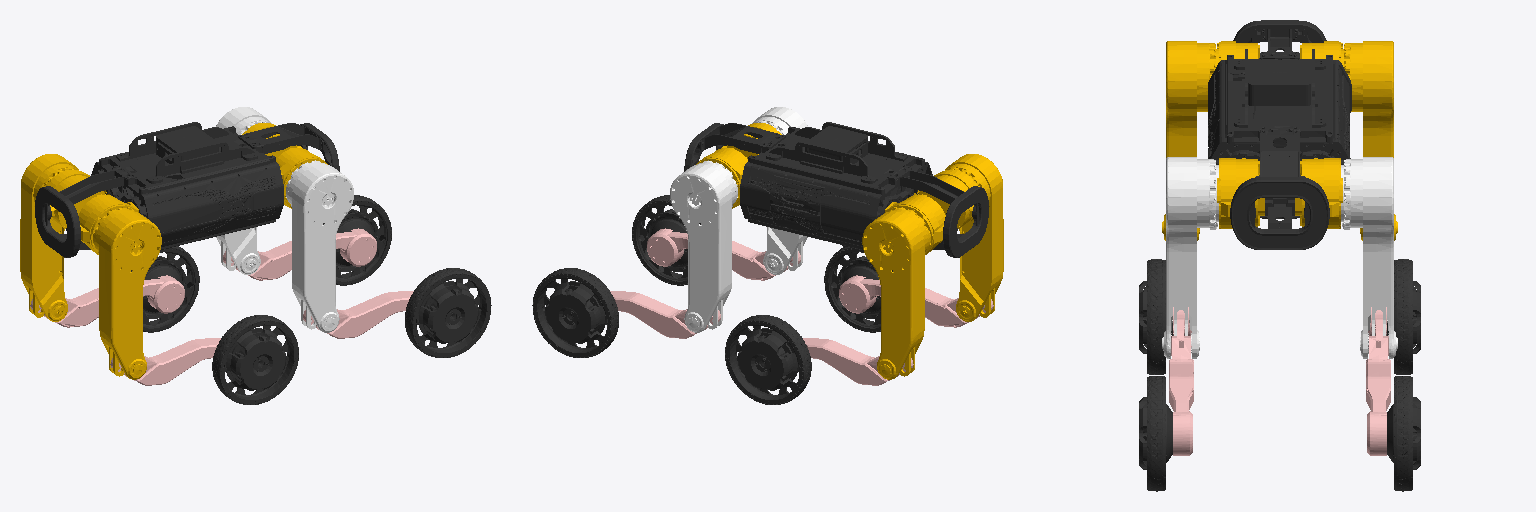
--- Render facts (derived) ---
Views: 3 orthographic renders of the robot side by side, from view 1: azimuth 30°, elevation 25°; view 2: azimuth 150°, elevation 25°; view 3: azimuth 270°, elevation 25°.
Robot: l4w4 — 19 links, 18 joints (16 revolute, 2 fixed); root link base; default pose: all joints at 0 but 4 set to mid-range because 0 is outside their limits (FR_calf_joint = -1.44, FL_calf_joint = -1.44, RR_calf_joint = -1.44, RL_calf_joint = -1.44).
Links seen in each view (by area): view 1: trunk, RR_thigh, FR_thigh, RR_foot, FR_foot, RL_thigh, FL_foot, RL_foot, FL_calf, FL_thigh, RL_calf, FR_calf (+4 smaller); view 2: trunk, RL_thigh, FL_thigh, RL_foot, FL_foot, RR_thigh, FR_foot, RR_foot, FR_calf, FR_thigh, RR_calf, FL_calf (+4 smaller); view 3: trunk, FR_thigh, FL_thigh, RL_thigh, RR_thigh, FR_foot, FL_foot, FR_calf, FL_calf, RR_foot, RL_foot, FR_hip (+3 smaller).
Boxes of the visible links, box(x1,y1,x2,y2) form: trunk: box(35, 122, 339, 257); RR_thigh: box(93, 208, 161, 379); FR_thigh: box(286, 160, 353, 332); RR_foot: box(212, 315, 298, 404); FR_foot: box(405, 268, 491, 357); RL_thigh: box(20, 154, 78, 321); FL_foot: box(323, 195, 391, 285); RL_foot: box(131, 246, 199, 332); FL_calf: box(223, 228, 376, 280); FL_thigh: box(216, 107, 271, 274); RL_calf: box(30, 275, 184, 327); FR_calf: box(303, 291, 413, 338); trunk: box(684, 122, 988, 257); RL_thigh: box(862, 208, 930, 379); FL_thigh: box(670, 160, 737, 332); RL_foot: box(725, 315, 811, 404); FL_foot: box(532, 268, 618, 357); RR_thigh: box(945, 154, 1003, 321); FR_foot: box(632, 195, 700, 285); RR_foot: box(824, 247, 892, 332); FR_calf: box(647, 228, 800, 280); FR_thigh: box(752, 107, 807, 274); RR_calf: box(839, 275, 993, 327); FL_calf: box(610, 291, 720, 338); trunk: box(1208, 20, 1351, 249); FR_thigh: box(1162, 157, 1218, 358); FL_thigh: box(1341, 157, 1397, 358); RL_thigh: box(1341, 41, 1397, 240); RR_thigh: box(1162, 41, 1218, 240); FR_foot: box(1139, 376, 1172, 491); FL_foot: box(1387, 376, 1420, 491); FR_calf: box(1169, 319, 1193, 455); FL_calf: box(1366, 319, 1390, 455); RR_foot: box(1139, 259, 1172, 374); RL_foot: box(1387, 259, 1420, 374); FR_hip: box(1217, 158, 1264, 228).
Size in the robot's own frame: 0.9952 by 0.51 by 0.5766 metres.
Meshes: 5 distinct files referenced, 17 mesh visuals loaded (5 binary STL).

robot.urdf — l4w4:
<?xml version="1.0" encoding="utf-8"?>
<!-- This URDF was automatically created by SolidWorks to URDF Exporter! Originally created by Stephen Brawner ([email redacted])
     Commit Version: 1.6.0-4-g7f85cfe  Build Version: 1.6.7995.38578
     For more information, please see http://wiki.ros.org/sw_urdf_exporter -->
<robot name="l4w4">
  <material name="black">
    <color rgba="0.0 0.0 0.0 1.0"/>
  </material>
  <material name="blue">
    <color rgba="0.0 0.0 0.8 1.0"/>
  </material>
  <material name="green">
    <color rgba="0.0 0.8 0.0 1.0"/>
  </material>
  <material name="grey">
    <color rgba="0.2 0.2 0.2 1.0"/>
  </material>
  <material name="silver">
    <color rgba="0.913725490196 0.913725490196 0.847058823529 1.0"/>
  </material>
  <material name="orange">
    <color rgba="1.0 0.423529411765 0.0392156862745 1.0"/>
  </material>
  <material name="brown">
    <color rgba="0.870588235294 0.811764705882 0.764705882353 1.0"/>
  </material>
  <material name="red">
    <color rgba="0.8 0.0 0.0 1.0"/>
  </material>
  <material name="white">
    <color rgba="1.0 1.0 1.0 1.0"/>
  </material>

  <link name="base">
    <visual>
      <origin rpy="0 0 0" xyz="0 0 0"/>
      <geometry>
        <box size="0.001 0.001 0.001"/>
      </geometry>
    </visual>
  </link>
  <joint name="floating_base" type="fixed">
    <origin rpy="0 0 0" xyz="0 0 0"/>
    <parent link="base"/>
    <child link="trunk"/>
  </joint>

  <link name="trunk">
    <inertial>
      <origin xyz="-0.0107 -0.00135 0.005" rpy="0 0 0" />
      <mass value="18.057" />
      <inertia ixx="0.12015" ixy="-0.00086" ixz="-0.00124" iyy="0.36210" iyz="-0.00004" izz="0.40829" />
    </inertial>
    <visual>
      <origin xyz="0 0 0" rpy="0 0 0" />
      <geometry>
        <mesh filename="package://l4w4_description/meshes/trunk.STL" />
      </geometry>
      <material name="">
        <color rgba="0.25 0.25 0.25 1" />
      </material>
    </visual>
    <collision>
      <origin xyz="0 0 0" rpy="0 0 0" />
      <geometry>
        <box size="0.688 0.18 0.18" />
      </geometry>
    </collision>
  </link>


  <link name="FR_hip">
    <inertial>
      <origin xyz="-0.004726 -0.001176 0.000044" rpy="0 0 0" />
      <mass value="2" />
      <inertia ixx="0.003012" ixy="0.000018" ixz="0.000006" iyy="0.005188" iyz="-0.000004" izz="0.003993" />
    </inertial>
    <visual>
      <origin xyz="0 0 0" rpy="0 0 0" />
      <geometry>
        <mesh filename="package://l4w4_description/meshes/shoulder_R.STL" />
      </geometry>
      <material name="">
        <color rgba="1 0.7765 0.0314 1" />
      </material>
    </visual>
    <collision>
      <origin xyz="0 0 0" rpy="0 0 0" />
      <geometry>
        <cylinder length="0" radius="0" />
      </geometry>
    </collision>
  </link>
  <joint name="FR_hip_joint" type="revolute">
    <origin xyz="0.249 -0.065 0" rpy="0 0 0" />
    <parent link="trunk" />
    <child link="FR_hip" />
    <axis xyz="1 0 0" />
    <limit lower="-0.5236" upper="0.5236" effort="110" velocity="11.5" />
  </joint>

  <link name="FR_thigh">
    <inertial>
      <origin xyz="-0.007013 -0.09103 -0.06380" rpy="0 0 0" />
      <mass value="3.396" />
      <inertia ixx="0.043751" ixy="0.000606" ixz="0.002054" iyy="0.043937" iyz="0.005154" izz="0.006846" />
    </inertial>
    <visual>
      <origin xyz="0 0 0" rpy="0 0 0" />
      <geometry>
        <mesh filename="package://l4w4_description/meshes/thigh_R.STL" scale = "1 1 1"/>
      </geometry>
      <material name="">
        <color rgba="1 1 1 1" />
      </material>
    </visual>
    <collision>
      <origin xyz="0 -0.1145 -0.100" rpy="0 0 0" />
      <geometry>
        <box size="0.122 0.044 0.32" />
      </geometry>
    </collision>
  </link>
  <joint name="FR_thigh_joint" type="revolute">
    <origin xyz="0 0 0" rpy="0 0 0" />
    <parent link="FR_hip" />
    <child link="FR_thigh" />
    <axis xyz="0 1 0" />
    <limit lower="-1.4" upper="3.14" effort="110" velocity="12.56" />
  </joint>

  <link name="FR_calf">
    <inertial>
      <origin xyz="-0.001448 0.001637 -0.130288" rpy="0 0 0" />
      <mass value="0.829" />
      <inertia ixx="0.012593" ixy="0.000001" ixz="-0.000510" iyy="0.012842" iyz="-0.000137" izz="0.000514" />
    </inertial>
    <visual>
      <origin xyz="0 0 0" rpy="0 0 0" />
      <geometry>
        <mesh filename="package://l4w4_description/meshes/shank_R.STL" scale = "1 1 1"/>
      </geometry>
      <material name="">
        <color rgba="1 0.8 0.8 1" />
      </material>
    </visual>
    <collision>
      <origin xyz="0 0 -0.2" rpy="0 0 0" />
      <geometry>
        <box size="0.06 0.03 0.1"/>
      </geometry>
    </collision>
  </link>
  <joint name="FR_calf_joint" type="revolute">
    <origin xyz="0 -0.1145 -0.3" rpy="0 0 0" />
    <parent link="FR_thigh" />
    <child link="FR_calf" />
    <axis xyz="0 1 0" />
    <limit lower="-2.7" upper="-0.17" effort="135" velocity="12.56" />
  </joint>

  <link name="FR_foot">
    <inertial>
      <origin xyz="0 -0.0559 0" rpy="0 0 0" />
      <mass value="2.6" />
      <inertia ixx="0.003934" ixy="0.0" ixz="0.000004" iyy="0.007113" iyz="-0.000004" izz="0.00395" />
    </inertial>
    <visual>
      <origin xyz="0 0 0" rpy="0 0 0" />
      <geometry>
        <mesh filename="package://l4w4_description/meshes/wheel_R.STL" scale = "1 1 1"/>
      </geometry>
      <material name="">
        <color rgba="0.25 0.25 0.25 1" />
      </material>
    </visual>
    <collision>
      <origin xyz="0 -0.0559 0" rpy="1.570796327 0 0" />
      <geometry>
        <cylinder length="0.040" radius="0.105"/>
      </geometry>
    </collision>
  </link>
  <joint name="FR_foot_joint" type="revolute">
    <origin xyz="0 0 -0.3" rpy="0 0 0" />
    <parent link="FR_calf" />
    <child link="FR_foot" />
    <axis xyz="0 1 0" />
    <limit lower="-1000000" upper="1000000" effort="32" velocity="12.0" />
  </joint>

  <transmission name="FR_hip_tran">
    <type>transmission_interface/SimpleTransmission</type>
    <joint name="FR_hip_joint">
      <hardwareInterface>hardware_interface/EffortJointInterface</hardwareInterface>
    </joint>
    <actuator name="FR_hip_motor">
      <hardwareInterface>hardware_interface/EffortJointInterface</hardwareInterface>
      <mechanicalReduction>1</mechanicalReduction>
    </actuator>
  </transmission>
  <transmission name="FR_thigh_tran">
    <type>transmission_interface/SimpleTransmission</type>
    <joint name="FR_thigh_joint">
      <hardwareInterface>hardware_interface/EffortJointInterface</hardwareInterface>
    </joint>
    <actuator name="FR_thigh_motor">
      <hardwareInterface>hardware_interface/EffortJointInterface</hardwareInterface>
      <mechanicalReduction>1</mechanicalReduction>
    </actuator>
  </transmission>
  <transmission name="FR_calf_tran">
    <type>transmission_interface/SimpleTransmission</type>
    <joint name="FR_calf_joint">
      <hardwareInterface>hardware_interface/EffortJointInterface</hardwareInterface>
    </joint>
    <actuator name="FR_calf_motor">
      <hardwareInterface>hardware_interface/EffortJointInterface</hardwareInterface>
      <mechanicalReduction>1</mechanicalReduction>
    </actuator>
  </transmission>
  <transmission name="FR_foot_tran">
    <type>transmission_interface/SimpleTransmission</type>
    <joint name="FR_foot_joint">
      <hardwareInterface>hardware_interface/EffortJointInterface</hardwareInterface>
    </joint>
    <actuator name="FR_foot_motor">
      <hardwareInterface>hardware_interface/EffortJointInterface</hardwareInterface>
      <mechanicalReduction>1</mechanicalReduction>
    </actuator>
  </transmission>

  <link name="FL_hip">
    <inertial>
      <origin xyz="-0.004726 0.001176 0.000044" rpy="0 0 0" />
      <mass value="2" />
      <inertia ixx="0.003012" ixy="-0.000018" ixz="0.000006" iyy="0.005188" iyz="0.000004" izz="0.003993" />
    </inertial>
    <visual>
      <origin xyz="0 0 0" rpy="0 0 0" />
      <geometry>
        <mesh filename="package://l4w4_description/meshes/shoulder_R.STL" scale = "1 -1 1"/>
      </geometry>
      <material name="">
        <color rgba="1 0.7765 0.0314 1" />
      </material>
    </visual>
    <collision>
      <origin xyz="0 0 0" rpy="0 0 0" />
      <geometry>
        <cylinder length="0" radius="0" />
      </geometry>
    </collision>
  </link>
  <joint name="FL_hip_joint" type="revolute">
    <origin xyz="0.249 0.065 0" rpy="0 0 0" />
    <parent link="trunk" />
    <child link="FL_hip" />
    <axis xyz="1 0 0" />
    <limit lower="-0.5236" upper="0.5236" effort="110" velocity="11.5" />
  </joint>

  <link name="FL_thigh">
    <inertial>
      <origin xyz="-0.007013 0.09103 -0.06380" rpy="0 0 0" />
      <mass value="3.396" />
      <inertia ixx="0.043751" ixy="-0.000606" ixz="0.002054" iyy="0.043937" iyz="-0.005154" izz="0.006846" />
    </inertial>
    <visual>
      <origin xyz="0 0 0" rpy="0 0 0" />
      <geometry>
        <mesh filename="package://l4w4_description/meshes/thigh_R.STL" scale = "1 -1 1"/>
      </geometry>
      <material name="">
        <color rgba="1 1 1 1" />
      </material>
    </visual>
    <collision>
      <origin xyz="0 0.1145 -0.100" rpy="0 0 0" />
      <geometry>
        <box size="0.122 0.044 0.32" />
      </geometry>
    </collision>
  </link>
  <joint name="FL_thigh_joint" type="revolute">
    <origin xyz="0 0 0" rpy="0 0 0" />
    <parent link="FL_hip" />
    <child link="FL_thigh" />
    <axis xyz="0 1 0" />
    <limit lower="-1.4" upper="3.14" effort="110" velocity="12.56" />
  </joint>

  <link name="FL_calf">
    <inertial>
      <origin xyz="-0.001448 -0.001637 -0.130288" rpy="0 0 0" />
      <mass value="0.829" />
      <inertia ixx="0.012593" ixy="-0.000001" ixz="-0.000510" iyy="0.012842" iyz="0.000137" izz="0.000514" />
    </inertial>
    <visual>
      <origin xyz="0 0 0" rpy="0 0 0" />
      <geometry>
        <mesh filename="package://l4w4_description/meshes/shank_R.STL" scale = "1 -1 1"/>
      </geometry>
      <material name="">
        <color rgba="1 0.8 0.8 1" />
      </material>
    </visual>
    <collision>
      <origin xyz="0 0 -0.2" rpy="0 0 0" />
      <geometry>
        <box size="0.06 0.03 0.1"/>
      </geometry>
    </collision>
  </link>
  <joint name="FL_calf_joint" type="revolute">
    <origin xyz="0 0.1145 -0.3" rpy="0 0 0" />
    <parent link="FL_thigh" />
    <child link="FL_calf" />
    <axis xyz="0 1 0" />
    <limit lower="-2.7" upper="-0.17" effort="135" velocity="12.56" />
  </joint>

  <link name="FL_foot">
    <inertial>
      <origin xyz="0 0.0559 0" rpy="0 0 0" />
      <mass value="2.6" />
      <inertia ixx="0.003934" ixy="0.0" ixz="0.000004" iyy="0.007113" iyz="0.000004" izz="0.00395" />
    </inertial>
    <visual>
      <origin xyz="0 0 0" rpy="0 0 0" />
      <geometry>
        <mesh filename="package://l4w4_description/meshes/wheel_R.STL" scale = "1 -1 1"/>
      </geometry>
      <material name="">
        <color rgba="0.25 0.25 0.25 1" />
      </material>
    </visual>
    <collision>
      <origin xyz="0 0.0559 0" rpy="1.570796327 0 0" />
      <geometry>
        <cylinder length="0.040" radius="0.105"/>
      </geometry>
    </collision>
  </link>
  <joint name="FL_foot_joint" type="revolute">
    <origin xyz="0 0 -0.3" rpy="0 0 0" />
    <parent link="FL_calf" />
    <child link="FL_foot" />
    <axis xyz="0 1 0" />
    <limit lower="-1000000" upper="1000000" effort="32" velocity="12.0" />
  </joint>

  <transmission name="FL_hip_tran">
    <type>transmission_interface/SimpleTransmission</type>
    <joint name="FL_hip_joint">
      <hardwareInterface>hardware_interface/EffortJointInterface</hardwareInterface>
    </joint>
    <actuator name="FL_hip_motor">
      <hardwareInterface>hardware_interface/EffortJointInterface</hardwareInterface>
      <mechanicalReduction>1</mechanicalReduction>
    </actuator>
  </transmission>
  <transmission name="FL_thigh_tran">
    <type>transmission_interface/SimpleTransmission</type>
    <joint name="FL_thigh_joint">
      <hardwareInterface>hardware_interface/EffortJointInterface</hardwareInterface>
    </joint>
    <actuator name="FL_thigh_motor">
      <hardwareInterface>hardware_interface/EffortJointInterface</hardwareInterface>
      <mechanicalReduction>1</mechanicalReduction>
    </actuator>
  </transmission>
  <transmission name="FL_calf_tran">
    <type>transmission_interface/SimpleTransmission</type>
    <joint name="FL_calf_joint">
      <hardwareInterface>hardware_interface/EffortJointInterface</hardwareInterface>
    </joint>
    <actuator name="FL_calf_motor">
      <hardwareInterface>hardware_interface/EffortJointInterface</hardwareInterface>
      <mechanicalReduction>1</mechanicalReduction>
    </actuator>
  </transmission>
  <transmission name="FL_foot_tran">
    <type>transmission_interface/SimpleTransmission</type>
    <joint name="FL_foot_joint">
      <hardwareInterface>hardware_interface/EffortJointInterface</hardwareInterface>
    </joint>
    <actuator name="FL_foot_motor">
      <hardwareInterface>hardware_interface/EffortJointInterface</hardwareInterface>
      <mechanicalReduction>1</mechanicalReduction>
    </actuator>
  </transmission>

  <link name="RR_hip">
    <inertial>
      <origin xyz="0.004726 -0.001176 0.000044" rpy="0 0 0" />
      <mass value="2" />
      <inertia ixx="0.003012" ixy="-0.000018" ixz="-0.000006" iyy="0.005188" iyz="-0.000004" izz="0.003993" />
    </inertial>
    <visual>
      <origin xyz="0 0 0" rpy="0 0 0" />
      <geometry>
        <mesh filename="package://l4w4_description/meshes/shoulder_R.STL" scale="-1 1 1"/>
      </geometry>
      <material name="">
        <color rgba="1 0.7765 0.0314 1" />
      </material>
    </visual>
    <collision>
      <origin xyz="0 0 0" rpy="0 0 0" />
      <geometry>
        <cylinder length="0" radius="0" />
      </geometry>
    </collision>
  </link>
  <joint name="RR_hip_joint" type="revolute">
    <origin xyz="-0.249 -0.065 0" rpy="0 0 0" />
    <parent link="trunk" />
    <child link="RR_hip" />
    <axis xyz="1 0 0" />
    <limit lower="-0.5236" upper="0.5236" effort="110" velocity="11.5" />
  </joint>

  <link name="RR_thigh">
    <inertial>
      <origin xyz="-0.007013 -0.09103 -0.06380" rpy="0 0 0" />
      <mass value="3.396" />
      <inertia ixx="0.043751" ixy="0.000606" ixz="0.002054" iyy="0.043937" iyz="0.005154" izz="0.006846" />
    </inertial>
    <visual>
      <origin xyz="0 0 0" rpy="0 0 0" />
      <geometry>
        <mesh filename="package://l4w4_description/meshes/thigh_R.STL" scale = "1 1 1"/>
      </geometry>
      <material name="">
        <color rgba="1 0.7765 0.0314 1" />
      </material>
    </visual>
    <collision>
      <origin xyz="0 -0.1145 -0.100" rpy="0 0 0" />
      <geometry>
        <box size="0.122 0.044 0.32" />
      </geometry>
    </collision>
  </link>
  <joint name="RR_thigh_joint" type="revolute">
    <origin xyz="0 0 0" rpy="0 0 0" />
    <parent link="RR_hip" />
    <child link="RR_thigh" />
    <axis xyz="0 1 0" />
    <limit lower="-1.4" upper="3.14" effort="110" velocity="12.56" />
  </joint>

  <link name="RR_calf">
    <inertial>
      <origin xyz="-0.001448 0.001637 -0.130288" rpy="0 0 0" />
      <mass value="0.829" />
      <inertia ixx="0.012593" ixy="0.000001" ixz="-0.000510" iyy="0.012842" iyz="-0.000137" izz="0.000514" />
    </inertial>
    <visual>
      <origin xyz="0 0 0" rpy="0 0 0" />
      <geometry>
        <mesh filename="package://l4w4_description/meshes/shank_R.STL" scale = "1 1 1"/>
      </geometry>
      <material name="">
        <color rgba="1 0.8 0.8 1" />
      </material>
    </visual>
    <collision>
      <origin xyz="0 0 -0.2" rpy="0 0 0" />
      <geometry>
        <box size="0.06 0.03 0.1"/>
      </geometry>
    </collision>
  </link>
  <joint name="RR_calf_joint" type="revolute">
    <origin xyz="0 -0.1145 -0.3" rpy="0 0 0" />
    <parent link="RR_thigh" />
    <child link="RR_calf" />
    <axis xyz="0 1 0" />
    <limit lower="-2.7" upper="-0.17" effort="135" velocity="12.56" />
  </joint>

  <link name="RR_foot">
    <inertial>
      <origin xyz="0 -0.0559 0" rpy="0 0 0" />
      <mass value="2.6" />
      <inertia ixx="0.003934" ixy="0.0" ixz="0.000004" iyy="0.007113" iyz="-0.000004" izz="0.00395" />
    </inertial>
    <visual>
      <origin xyz="0 0 0" rpy="0 0 0" />
      <geometry>
        <mesh filename="package://l4w4_description/meshes/wheel_R.STL" scale = "1 1 1"/>
      </geometry>
      <material name="">
        <color rgba="0.25 0.25 0.25 1" />
      </material>
    </visual>
    <collision>
      <origin xyz="0 -0.0559 0" rpy="1.570796327 0 0" />
      <geometry>
        <cylinder length="0.040" radius="0.105"/>
      </geometry>
    </collision>
  </link>
  <joint name="RR_foot_joint" type="revolute">
    <origin xyz="0 0 -0.3" rpy="0 0 0" />
    <parent link="RR_calf" />
    <child link="RR_foot" />
    <axis xyz="0 1 0" />
    <limit lower="-1000000" upper="1000000" effort="32" velocity="12.0" />
  </joint>

  <link name="RL_hip">
    <inertial>
      <origin xyz="0.004726 0.001176 0.000044" rpy="0 0 0" />
      <mass value="2" />
      <inertia ixx="0.003012" ixy="0.000018" ixz="-0.000006" iyy="0.005188" iyz="0.000004" izz="0.003993" />
    </inertial>
    <visual>
      <origin xyz="0 0 0" rpy="0 0 0" />
      <geometry>
        <mesh filename="package://l4w4_description/meshes/shoulder_R.STL" scale = "-1 -1 1"/>
      </geometry>
      <material name="">
        <color rgba="1 0.7765 0.0314 1" />
      </material>
    </visual>
    <collision>
      <origin xyz="0 0 0" rpy="0 0 0" />
      <geometry>
        <cylinder length="0" radius="0" />
      </geometry>
    </collision>
  </link>
  <joint name="RL_hip_joint" type="revolute">
    <origin xyz="-0.249 0.065 0" rpy="0 0 0" />
    <parent link="trunk" />
    <child link="RL_hip" />
    <axis xyz="1 0 0" />
    <limit lower="-0.5236" upper="0.5236" effort="110" velocity="11.5" />
  </joint>

  <transmission name="RL_hip_tran">
    <type>transmission_interface/SimpleTransmission</type>
    <joint name="RL_hip_joint">
      <hardwareInterface>hardware_interface/EffortJointInterface</hardwareInterface>
    </joint>
    <actuator name="RL_hip_motor">
      <hardwareInterface>hardware_interface/EffortJointInterface</hardwareInterface>
      <mechanicalReduction>1</mechanicalReduction>
    </actuator>
  </transmission>
  <transmission name="RL_thigh_tran">
    <type>transmission_interface/SimpleTransmission</type>
    <joint name="RL_thigh_joint">
      <hardwareInterface>hardware_interface/EffortJointInterface</hardwareInterface>
    </joint>
    <actuator name="RL_thigh_motor">
      <hardwareInterface>hardware_interface/EffortJointInterface</hardwareInterface>
      <mechanicalReduction>1</mechanicalReduction>
    </actuator>
  </transmission>
  <transmission name="RL_calf_tran">
    <type>transmission_interface/SimpleTransmission</type>
    <joint name="RL_calf_joint">
      <hardwareInterface>hardware_interface/EffortJointInterface</hardwareInterface>
    </joint>
    <actuator name="RL_calf_motor">
      <hardwareInterface>hardware_interface/EffortJointInterface</hardwareInterface>
      <mechanicalReduction>1</mechanicalReduction>
    </actuator>
  </transmission>
  <transmission name="RL_foot_tran">
    <type>transmission_interface/SimpleTransmission</type>
    <joint name="RL_foot_joint">
      <hardwareInterface>hardware_interface/EffortJointInterface</hardwareInterface>
    </joint>
    <actuator name="RL_foot_motor">
      <hardwareInterface>hardware_interface/EffortJointInterface</hardwareInterface>
      <mechanicalReduction>1</mechanicalReduction>
    </actuator>
  </transmission>

  <link name="RL_thigh">
    <inertial>
      <origin xyz="-0.007013 0.09103 -0.06380" rpy="0 0 0" />
      <mass value="3.396" />
      <inertia ixx="0.043751" ixy="-0.000606" ixz="0.002054" iyy="0.043937" iyz="-0.005154" izz="0.006846" />
    </inertial>
    <visual>
      <origin xyz="0 0 0" rpy="0 0 0" />
      <geometry>
        <mesh filename="package://l4w4_description/meshes/thigh_R.STL" scale = "1 -1 1"/>
      </geometry>
      <material name="">
        <color rgba="1 0.7765 0.0314 1" />
      </material>
    </visual>
    <collision>
      <origin xyz="0 0.1145 -0.100" rpy="0 0 0" />
      <geometry>
        <box size="0.122 0.044 0.32" />
      </geometry>
    </collision>
  </link>
  <joint name="RL_thigh_joint" type="revolute">
    <origin xyz="0 0 0" rpy="0 0 0" />
    <parent link="RL_hip" />
    <child link="RL_thigh" />
    <axis xyz="0 1 0" />
    <limit lower="-1.4" upper="3.14" effort="110" velocity="12.56" />
  </joint>

  <link name="RL_calf">
    <inertial>
      <origin xyz="-0.001448 -0.001637 -0.130288" rpy="0 0 0" />
      <mass value="0.829" />
      <inertia ixx="0.012593" ixy="-0.000001" ixz="-0.000510" iyy="0.012842" iyz="0.000137" izz="0.000514" />
    </inertial>
    <visual>
      <origin xyz="0 0 0" rpy="0 0 0" />
      <geometry>
        <mesh filename="package://l4w4_description/meshes/shank_R.STL" scale = "1 -1 1"/>
      </geometry>
      <material name="">
        <color rgba="1 0.8 0.8 1" />
      </material>
    </visual>
    <collision>
      <origin xyz="0 0 -0.2" rpy="0 0 0" />
      <geometry>
        <box size="0.06 0.03 0.1"/>
      </geometry>
    </collision>
  </link>
  <joint name="RL_calf_joint" type="revolute">
    <origin xyz="0 0.1145 -0.3" rpy="0 0 0" />
    <parent link="RL_thigh" />
    <child link="RL_calf" />
    <axis xyz="0 1 0" />
    <limit lower="-2.7" upper="-0.17" effort="135" velocity="12.56" />
  </joint>

  <link name="RL_foot">
    <inertial>
      <origin xyz="0 0.0559 0" rpy="0 0 0" />
      <mass value="2.6" />
      <inertia ixx="0.003934" ixy="0.0" ixz="0.000004" iyy="0.007113" iyz="0.000004" izz="0.00395" />
    </inertial>
    <visual>
      <origin xyz="0 0 0" rpy="0 0 0" />
      <geometry>
        <mesh filename="package://l4w4_description/meshes/wheel_R.STL" scale = "1 -1 1"/>
      </geometry>
      <material name="">
        <color rgba="0.25 0.25 0.25 1" />
      </material>
    </visual>
    <collision>
      <origin xyz="0 0.0559 0" rpy="1.570796327 0 0" />
      <geometry>
        <cylinder length="0.040" radius="0.105"/>
      </geometry>
    </collision>
  </link>
  <joint name="RL_foot_joint" type="revolute">
    <origin xyz="0 0 -0.3" rpy="0 0 0" />
    <parent link="RL_calf" />
    <child link="RL_foot" />
    <axis xyz="0 1 0" />
    <limit lower="-1000000" upper="1000000" effort="32" velocity="12.0" />
  </joint>

  <transmission name="RR_hip_tran">
    <type>transmission_interface/SimpleTransmission</type>
    <joint name="RR_hip_joint">
      <hardwareInterface>hardware_interface/EffortJointInterface</hardwareInterface>
    </joint>
    <actuator name="RR_hip_motor">
      <hardwareInterface>hardware_interface/EffortJointInterface</hardwareInterface>
      <mechanicalReduction>1</mechanicalReduction>
    </actuator>
  </transmission>
  <transmission name="RR_thigh_tran">
    <type>transmission_interface/SimpleTransmission</type>
    <joint name="RR_thigh_joint">
      <hardwareInterface>hardware_interface/EffortJointInterface</hardwareInterface>
    </joint>
    <actuator name="RR_thigh_motor">
      <hardwareInterface>hardware_interface/EffortJointInterface</hardwareInterface>
      <mechanicalReduction>1</mechanicalReduction>
    </actuator>
  </transmission>
  <transmission name="RR_calf_tran">
    <type>transmission_interface/SimpleTransmission</type>
    <joint name="RR_calf_joint">
      <hardwareInterface>hardware_interface/EffortJointInterface</hardwareInterface>
    </joint>
    <actuator name="RR_calf_motor">
      <hardwareInterface>hardware_interface/EffortJointInterface</hardwareInterface>
      <mechanicalReduction>1</mechanicalReduction>
    </actuator>
  </transmission>
  <transmission name="RR_foot_tran">
    <type>transmission_interface/SimpleTransmission</type>
    <joint name="RR_foot_joint">
      <hardwareInterface>hardware_interface/EffortJointInterface</hardwareInterface>
    </joint>
    <actuator name="RR_foot_motor">
      <hardwareInterface>hardware_interface/EffortJointInterface</hardwareInterface>
      <mechanicalReduction>1</mechanicalReduction>
    </actuator>
  </transmission>

  <link name="imu_link">
    <inertial>
      <origin xyz="0 0 0" rpy="0 0 0" />
      <mass value="0" />
      <inertia ixx="0" ixy="0" ixz="0" iyy="0" iyz="0" izz="0" />
    </inertial>
  </link>
  <joint name="imu_joint" type="fixed">
    <origin xyz="0 0 0" rpy="0 0 0" />
    <parent link="trunk" />
    <child link="imu_link" />
  </joint>

</robot>
